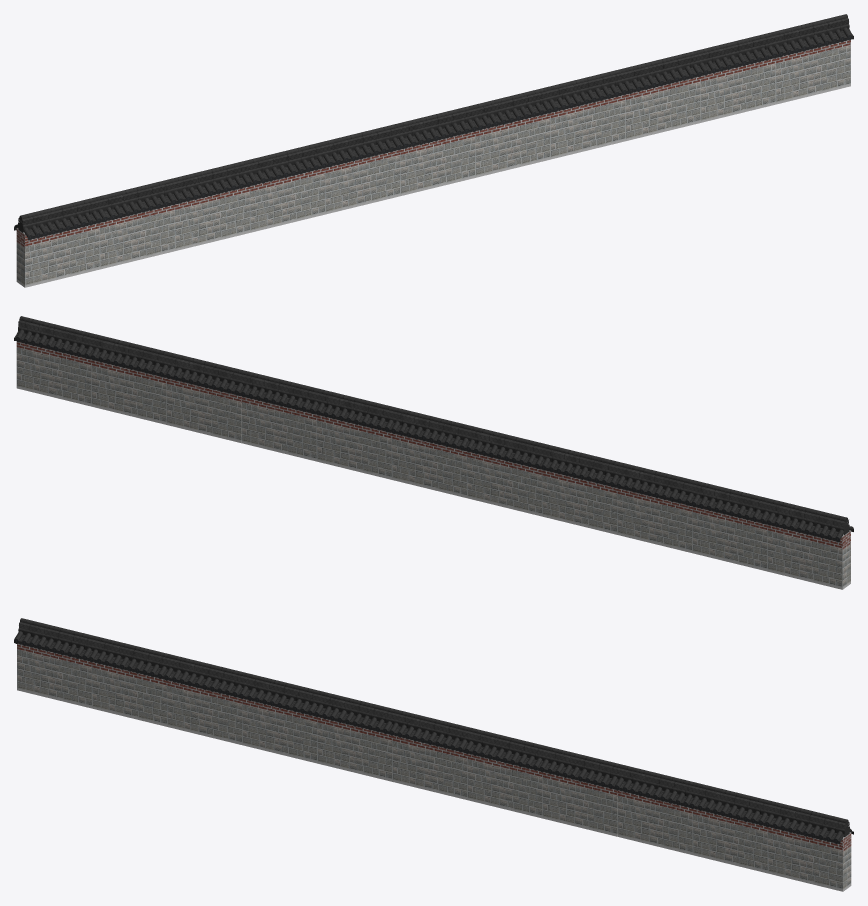
File: SM_DG_HG_StoneWallH_Splines_1.fbx
The picture shows the model from 3 angles, top to bottom: view 1: azimuth 30°, elevation 25°; view 2: azimuth 150°, elevation 25°; view 3: azimuth 330°, elevation 25°; orthographic projection.
Parts seen in each view (by area): view 1: SM_DG_HG_StoneWallH_Splines_1; view 2: SM_DG_HG_StoneWallH_Splines_1; view 3: SM_DG_HG_StoneWallH_Splines_1.
Boxes of the visible parts, left/top/right/bottom form: SM_DG_HG_StoneWallH_Splines_1: left=14, top=14, right=853, bottom=287; SM_DG_HG_StoneWallH_Splines_1: left=14, top=316, right=853, bottom=589; SM_DG_HG_StoneWallH_Splines_1: left=14, top=618, right=853, bottom=891.
Bounding box in the file's own units: 2231 × 65.49 × 178.
